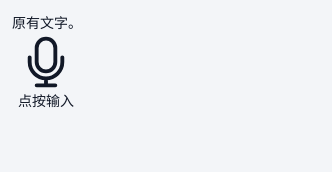
Test case: restores the pre-dictation value when tap dictation is cancelled with Escape
Later steps or results of the test are not shown.
Click the button with aria-label "点按开始语音输入要求". click: (46, 72)
box: [12,33,80,112]
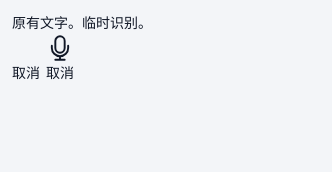
Result: the text "原有文字。临时识别。" is shown at [12,14,152,31]
